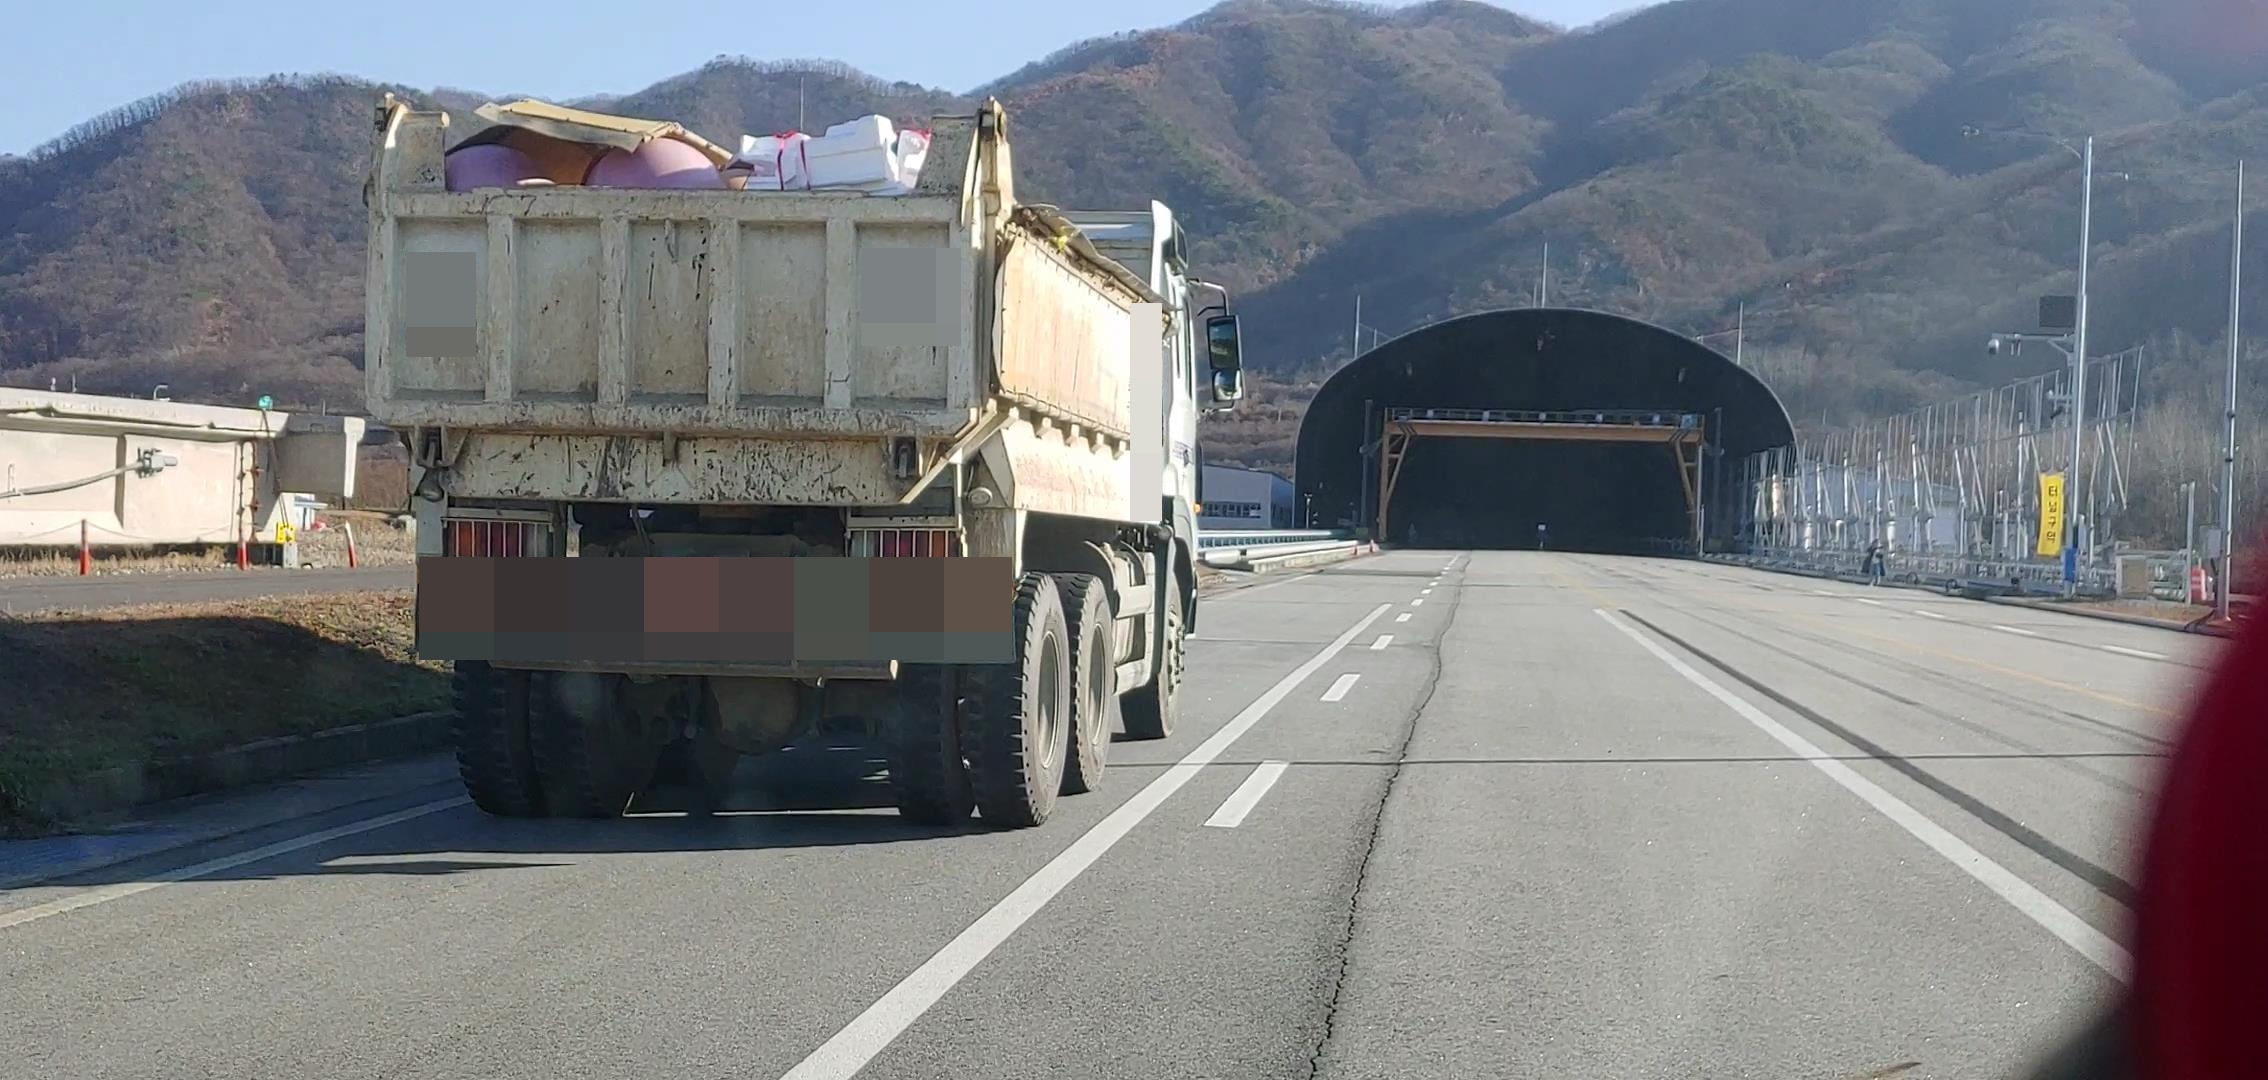불법차량: (359, 90, 1247, 826)
